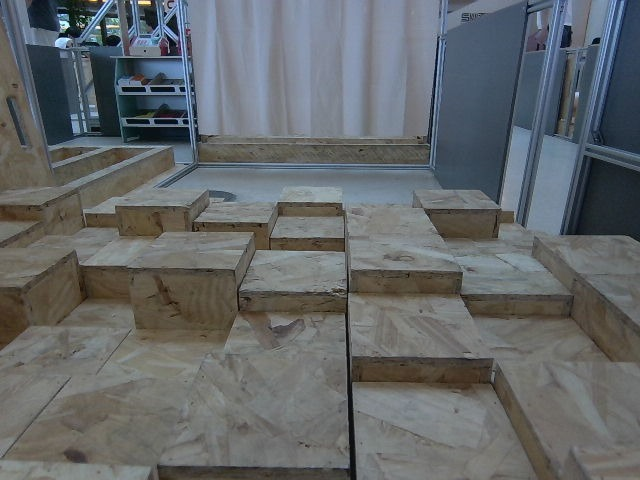curtain: (186, 0, 435, 139)
